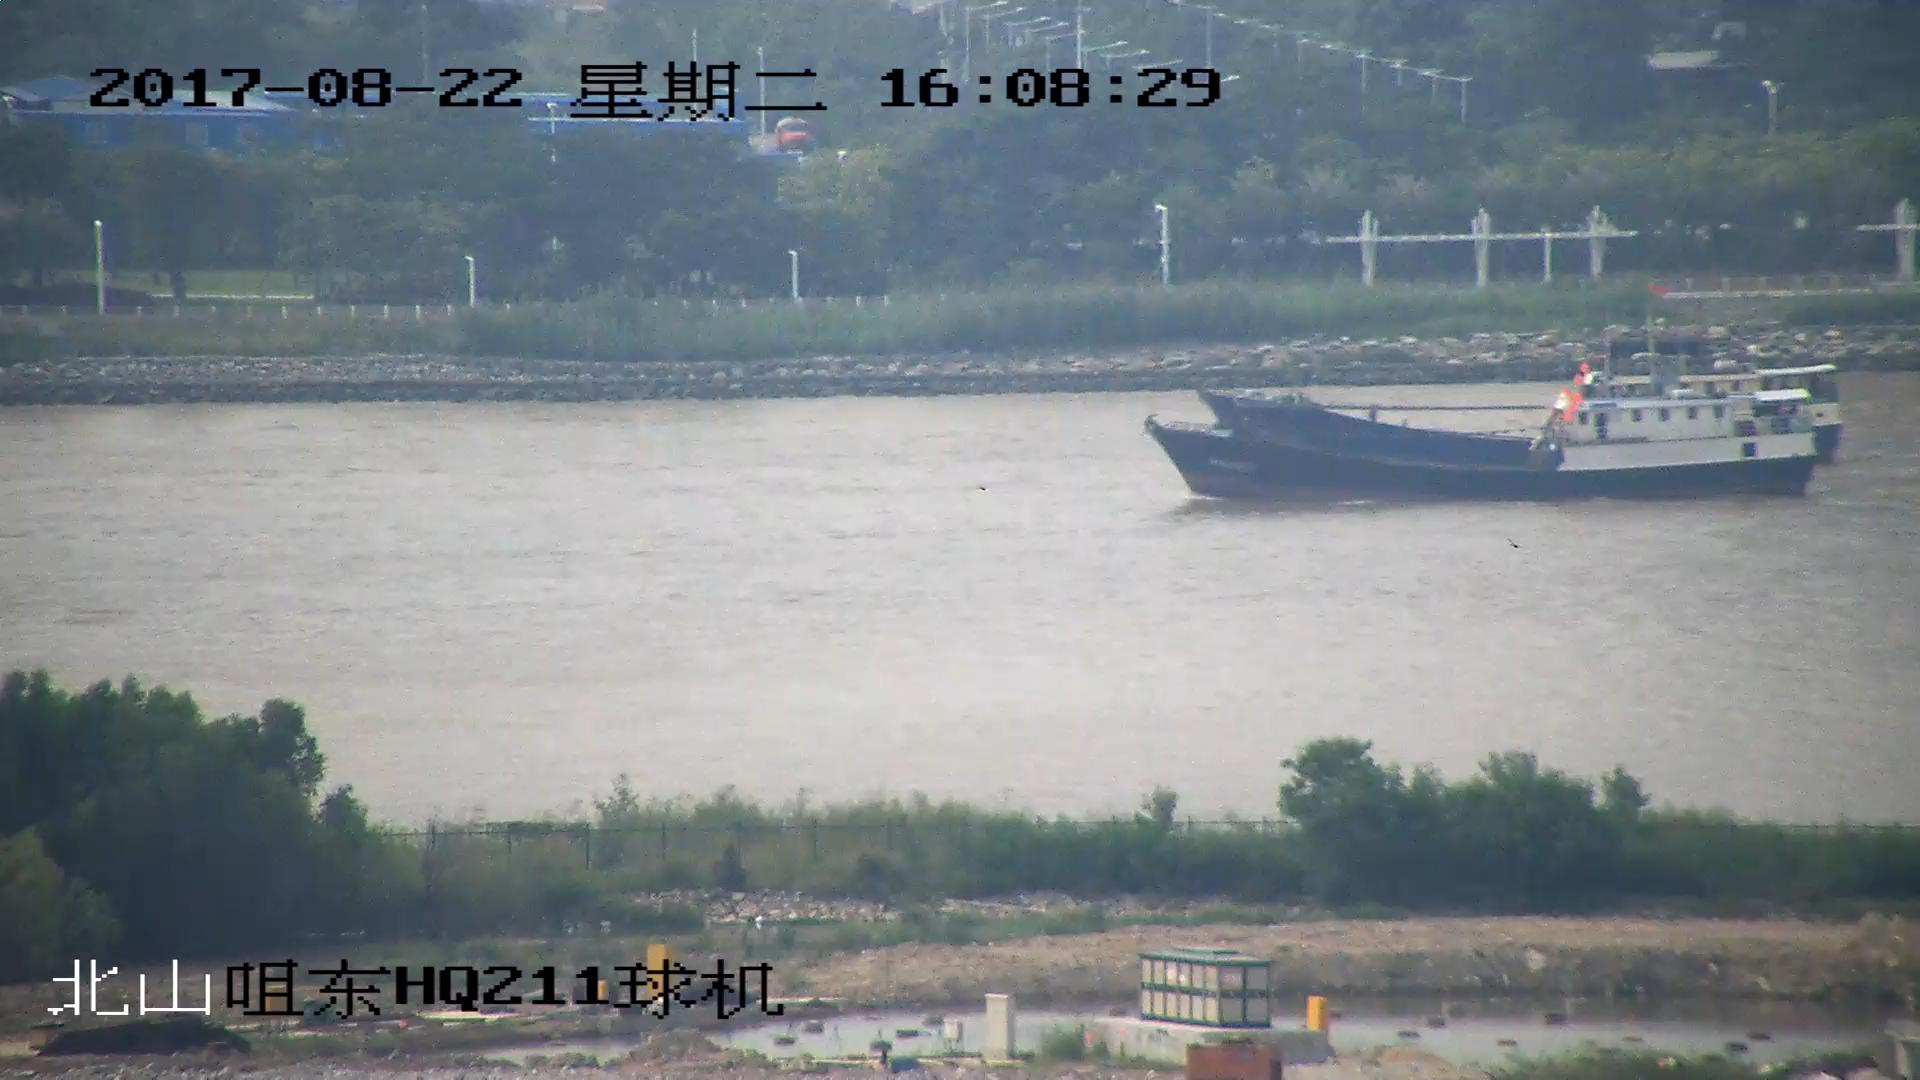fishing boat: (1204, 292, 1848, 463), (1148, 388, 1810, 497)
